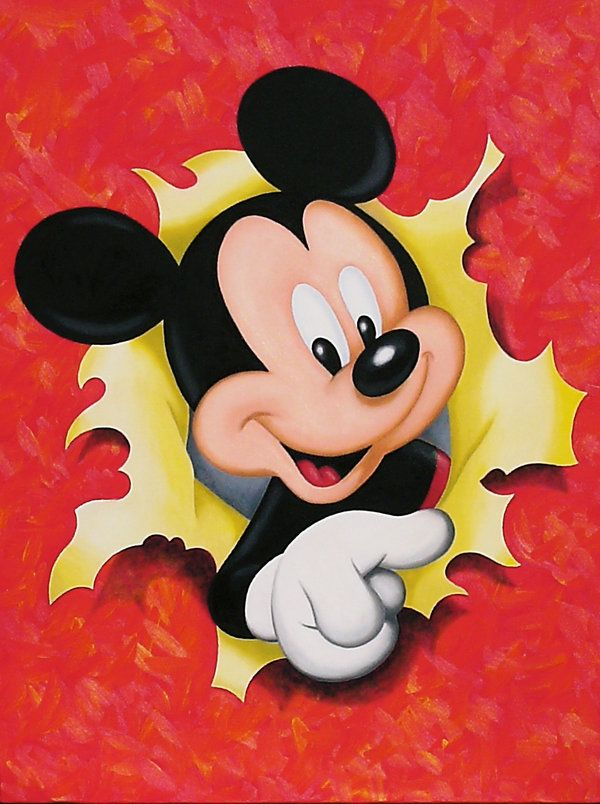Mickey: (14, 64, 466, 503)
